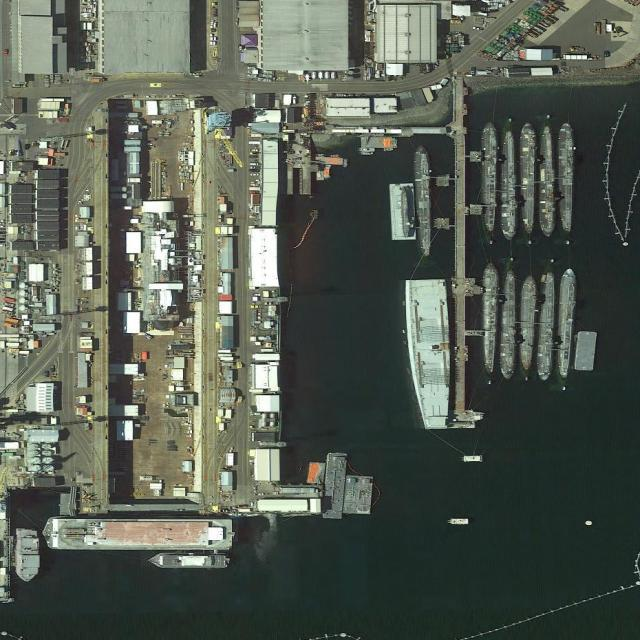Cargo: (41, 515, 237, 553)
Dock: (451, 99, 482, 416)
Other Ship: (15, 528, 40, 583), (145, 553, 231, 568)
Submarine: (553, 266, 577, 380), (537, 273, 555, 379), (414, 149, 431, 255), (518, 276, 536, 370), (500, 273, 515, 378), (559, 123, 573, 231), (484, 264, 497, 373), (541, 128, 553, 236), (483, 123, 495, 230), (503, 132, 515, 239), (522, 122, 533, 232), (401, 186, 412, 235)
